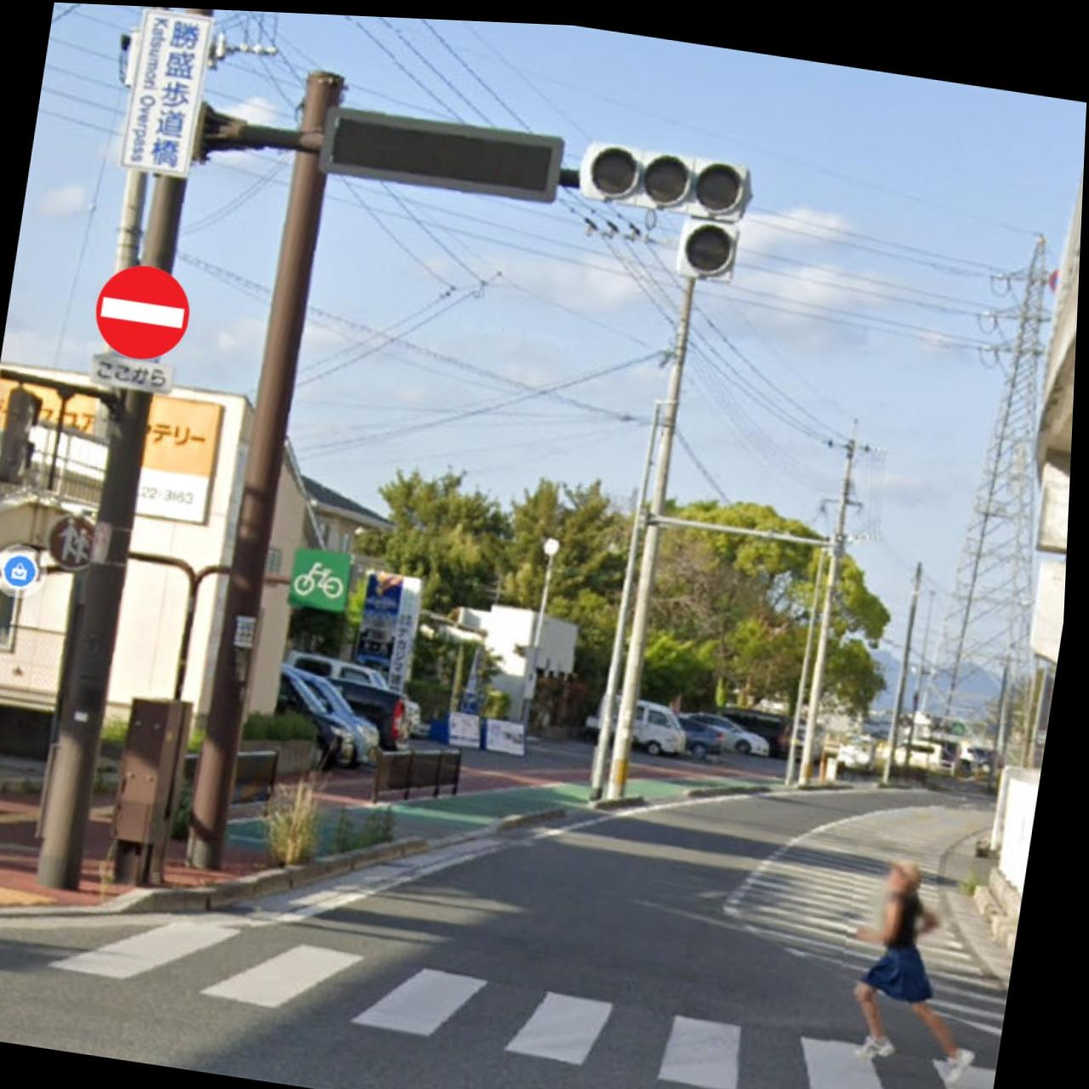barrier: (80, 259, 208, 365)
